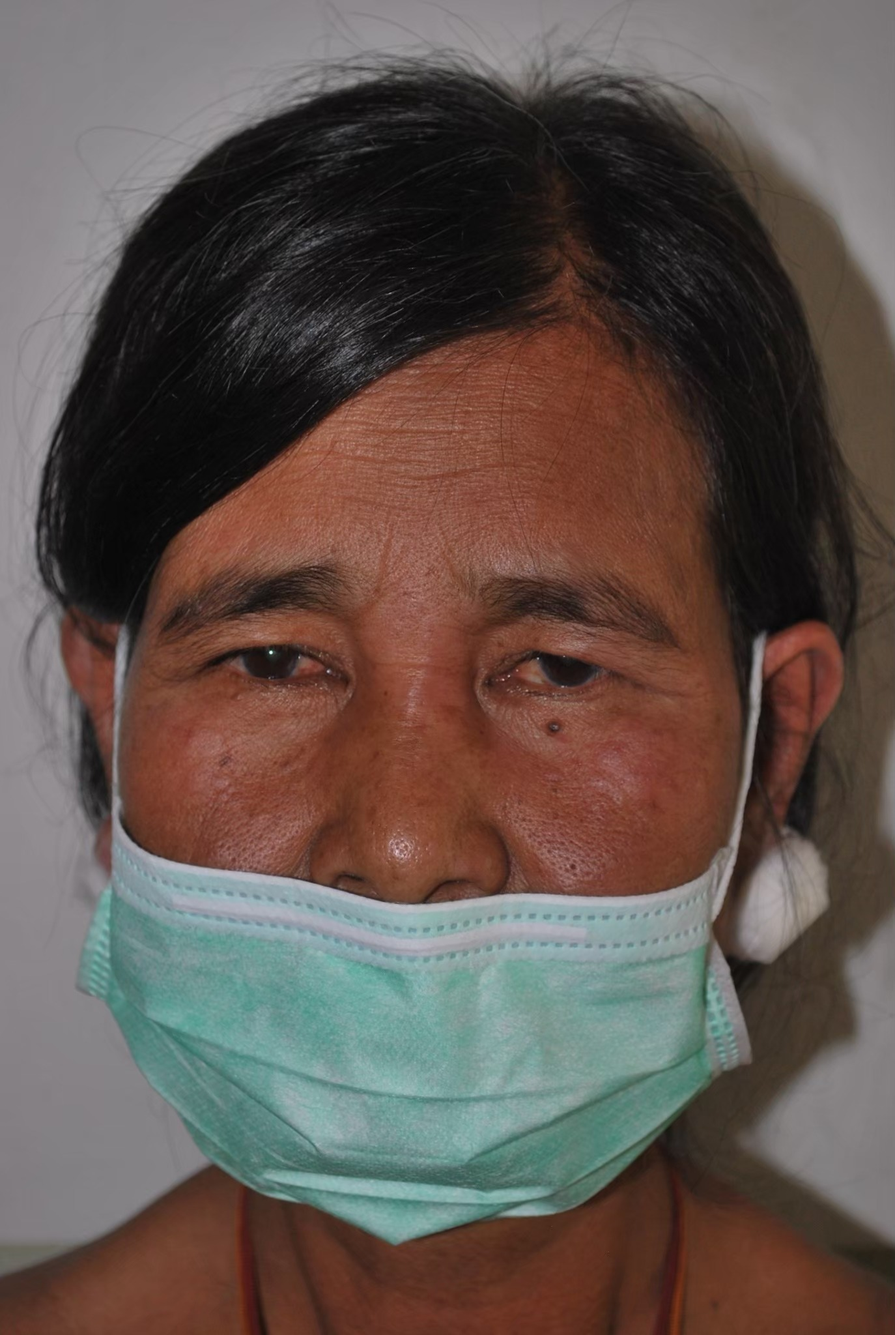Leprosy: (587, 727, 688, 812)
